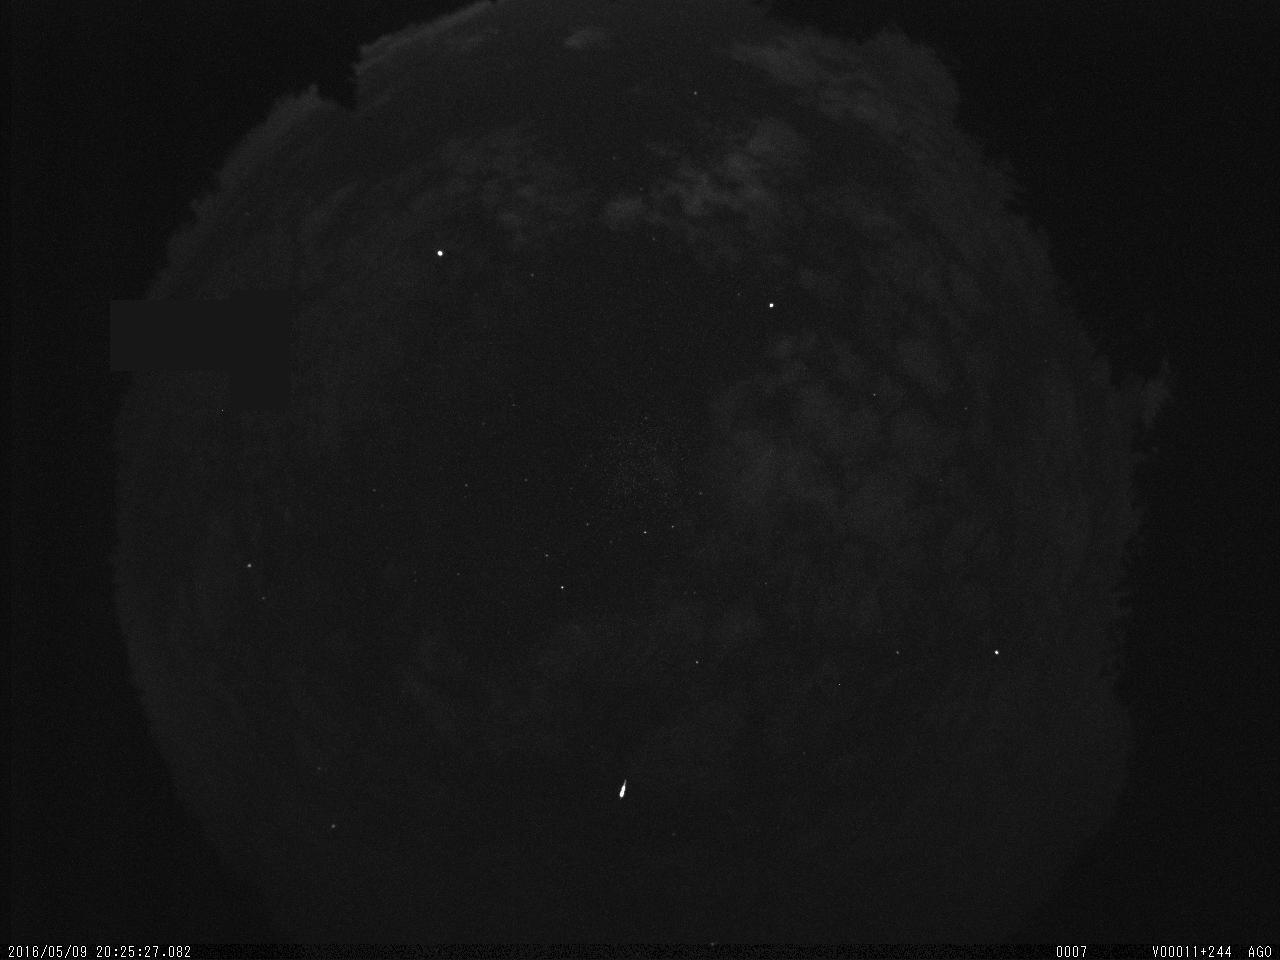meteor: (609, 773, 641, 808)
